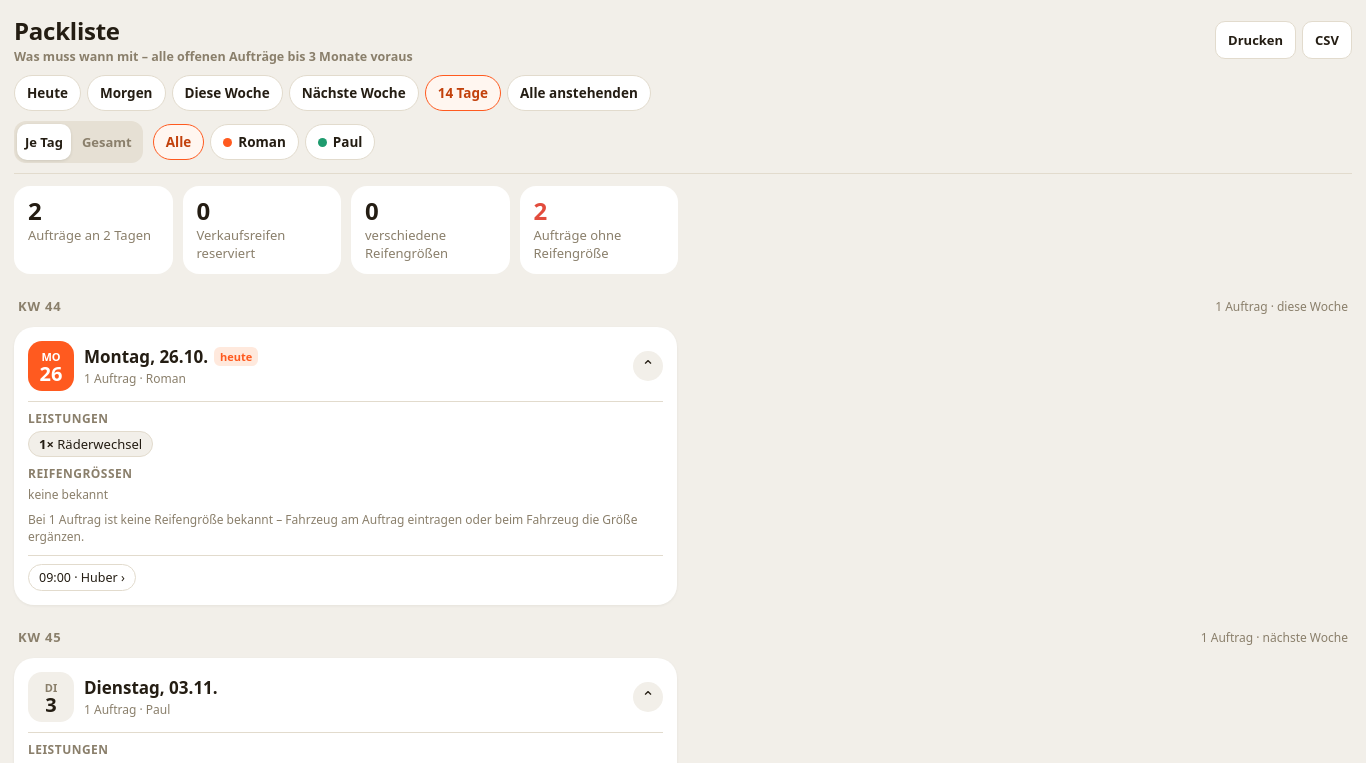
PacklistePanel › ohne Lagerrecht keine Sätze und keine Lagervorbereitung
The image size is (1366, 763).
Expected: the text "Montag, 26.10." is shown, x1=84 y1=345 x2=208 y2=368
Click the button "Gesamt". click: [107, 142]
box: x1=74 y1=124 x2=140 y2=160
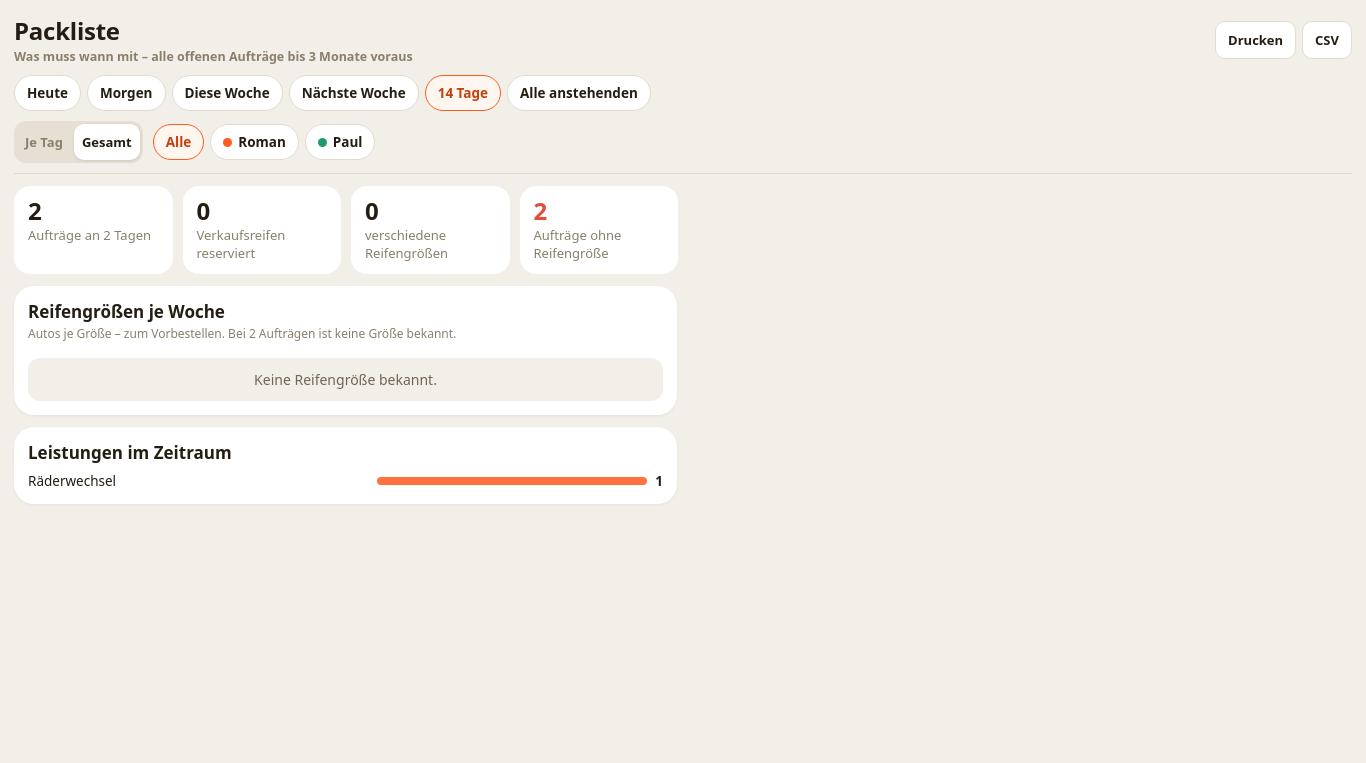
Expected: the text "Reifengrößen je Woche" is shown, x1=28 y1=300 x2=225 y2=323
